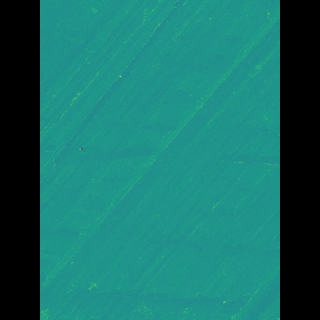Loch: (119, 112, 173, 163)
